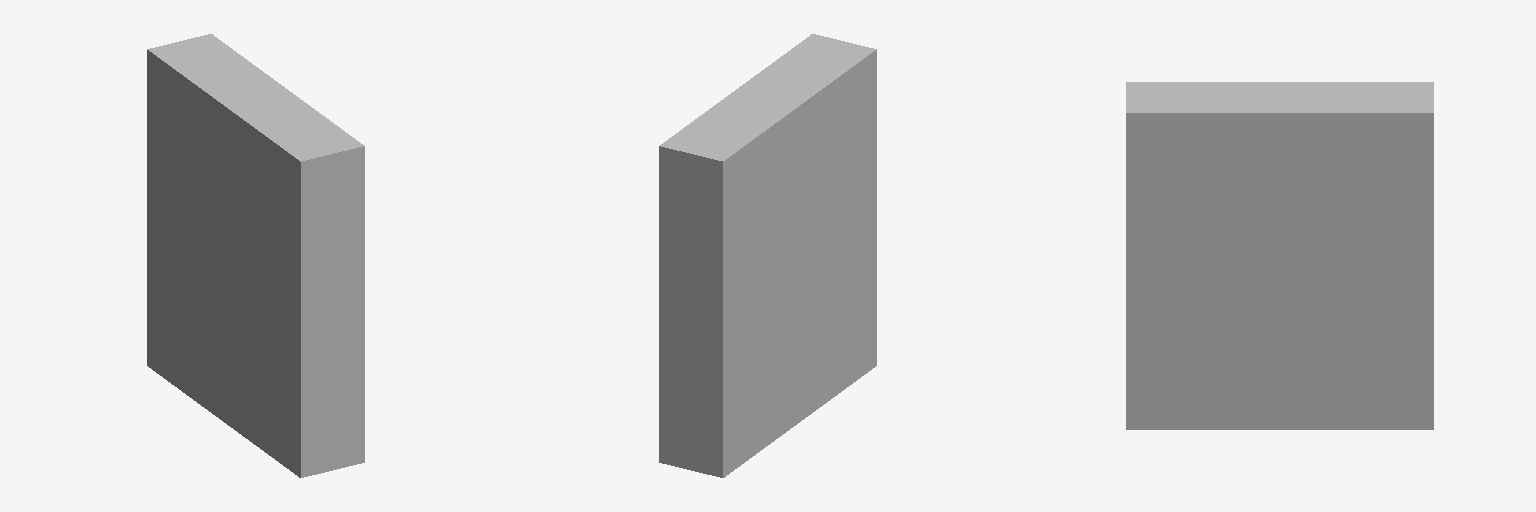
The model's file is Dop-2.obj.
3 views of the same model, side by side, from view 1: azimuth 30°, elevation 25°; view 2: azimuth 150°, elevation 25°; view 3: azimuth 270°, elevation 25° (orthographic).
Parts seen in each view (by area): view 1: Dop-2; view 2: Dop-2; view 3: Dop-2.
Part boxes in pixels (left/top/right/bottom): Dop-2: left=147, top=34, right=364, bottom=477; Dop-2: left=659, top=34, right=876, bottom=477; Dop-2: left=1126, top=82, right=1433, bottom=429.
Size of the model in its own units: 7 by 33 by 29.